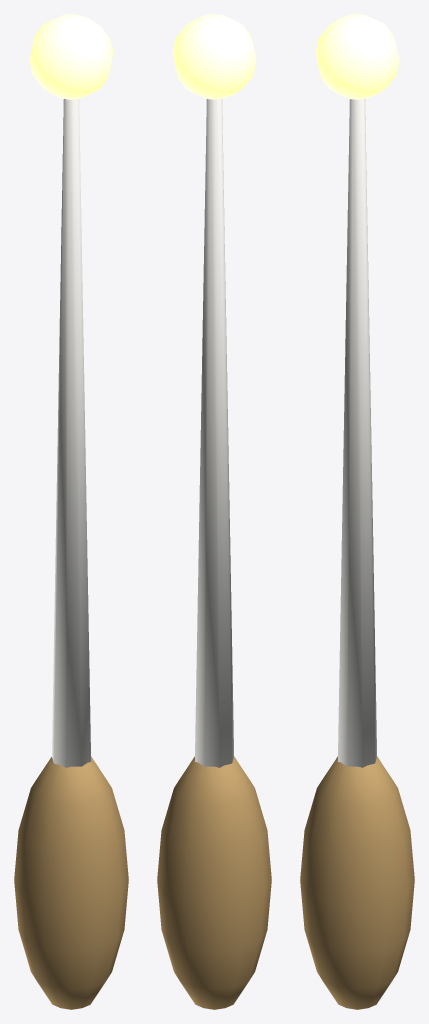
Rendered from props.glb.
The picture shows the model from 3 angles, left to right: view 1: azimuth 30°, elevation 25°; view 2: azimuth 150°, elevation 25°; view 3: azimuth 330°, elevation 25°; orthographic projection.
Visible parts, largest first — view 1: baton; view 2: baton; view 3: baton.
Boxes of the visible parts, bbox=[...] form: baton: bbox=[14, 14, 128, 1009]; baton: bbox=[157, 14, 271, 1009]; baton: bbox=[300, 14, 414, 1009].
Size of the model in its own units: 0.12 by 1.15 by 0.12.
